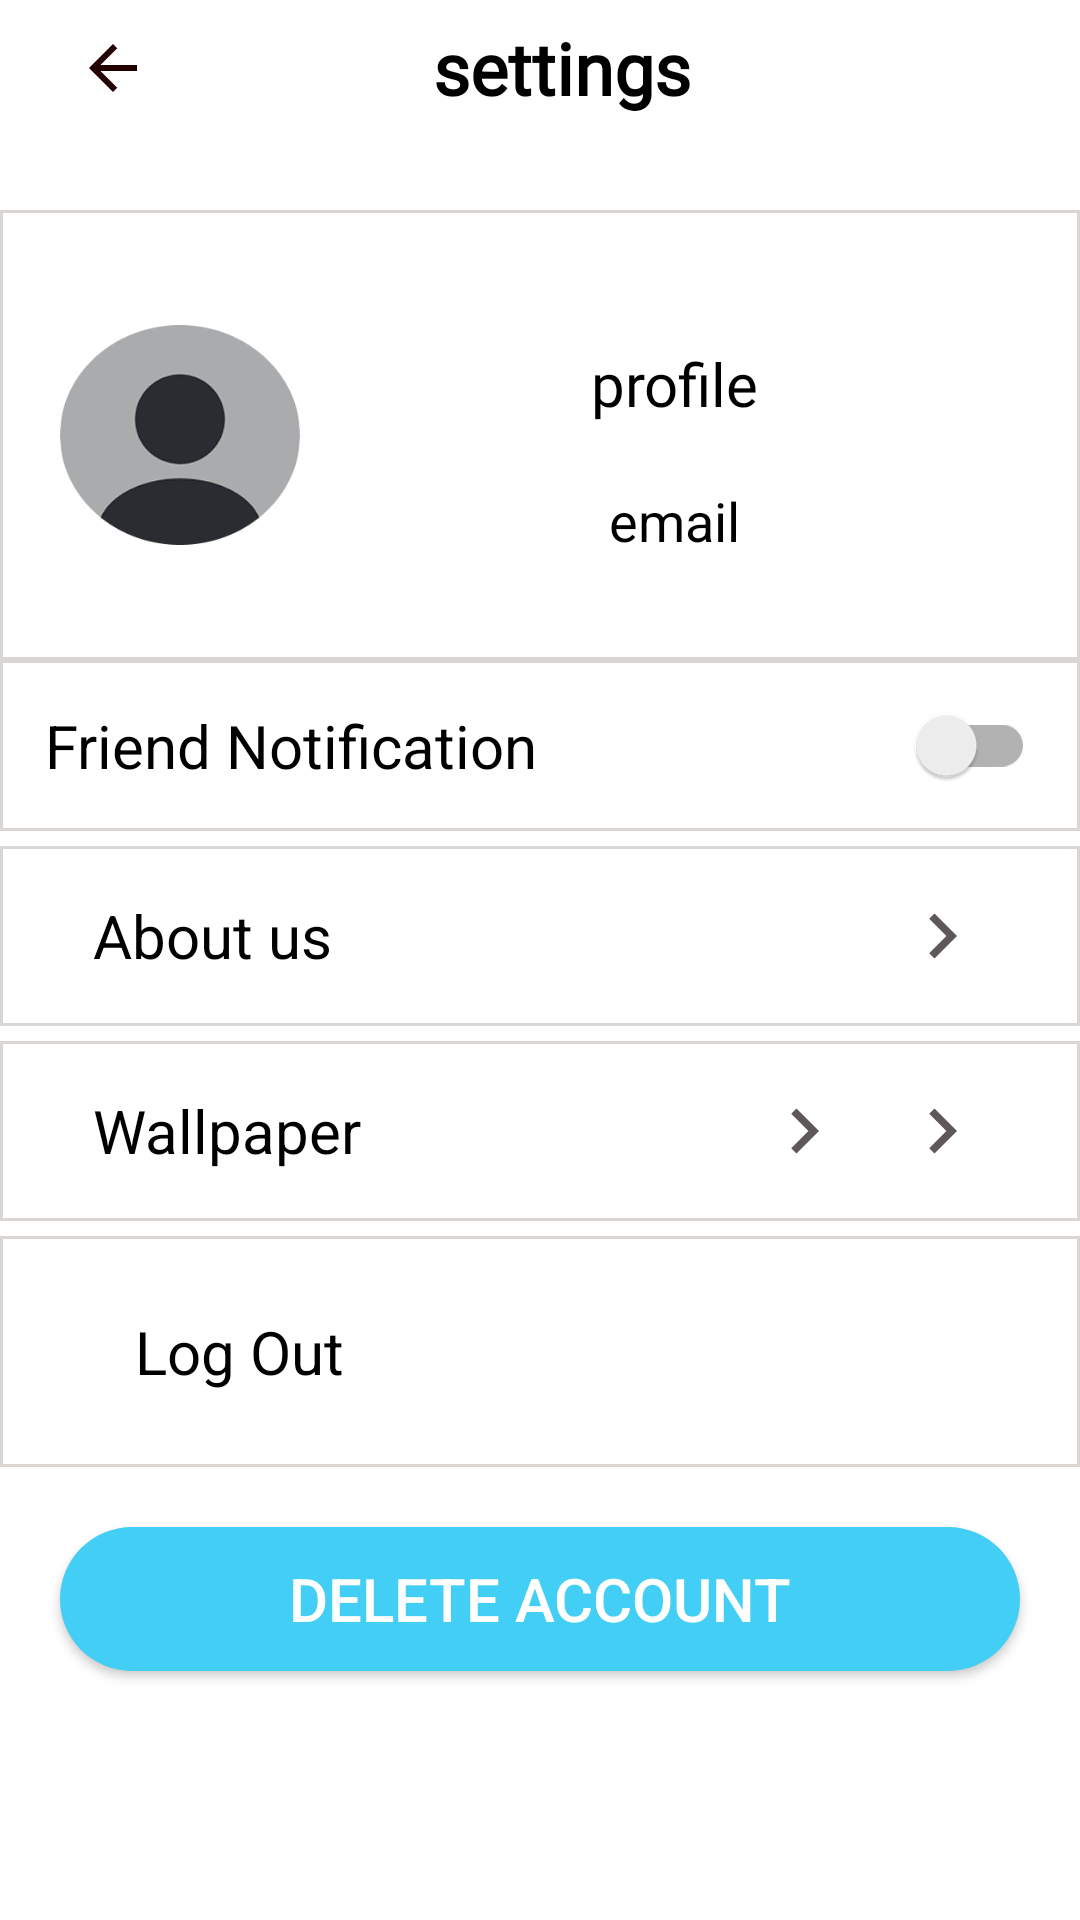

Named icons in this screenshot (1080w x 1920h) and their bounding boxes, (x1, y1, x2, y2):
back: (89, 44, 137, 92)
right: (929, 913, 957, 959), (791, 1108, 819, 1154), (929, 1108, 957, 1154)
